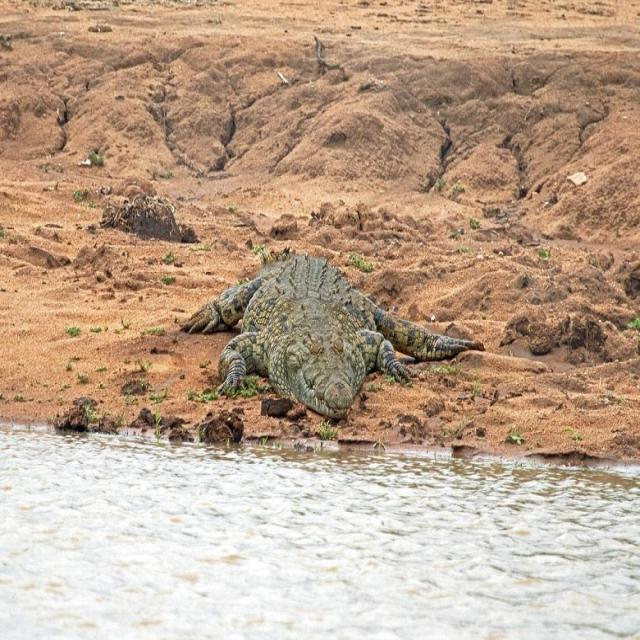crocodile: (180, 243, 498, 466)
